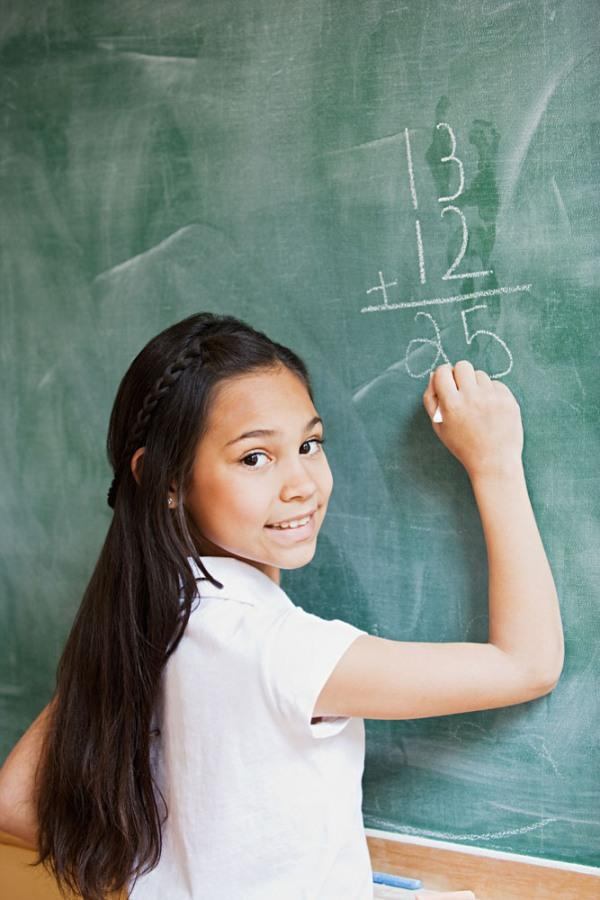person: (3, 315, 569, 897)
